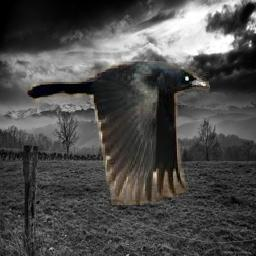Crow: (26, 59, 211, 206)
